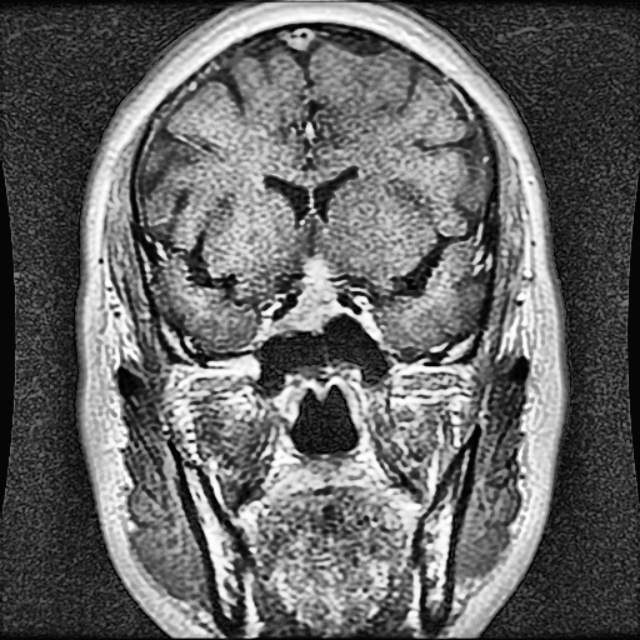Pituitary: (270, 258, 338, 334)
